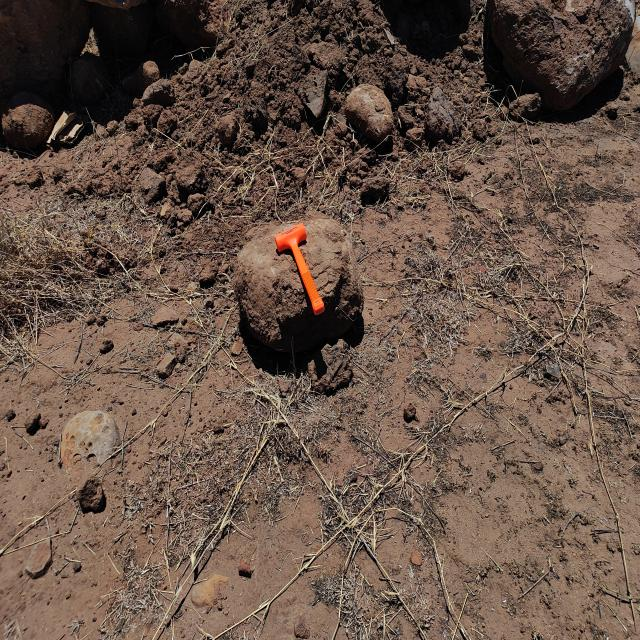Orange_hammer: (274, 221, 325, 316)
